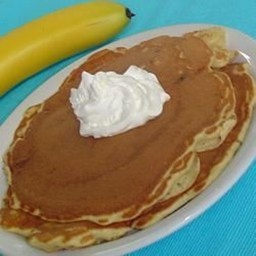background: (0, 10, 102, 101), (0, 0, 54, 39)
